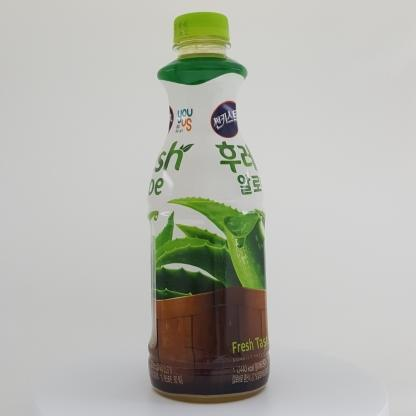----------1L: (147, 12, 270, 403)
